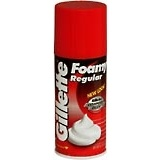grozi_87: (54, 0, 106, 160)
